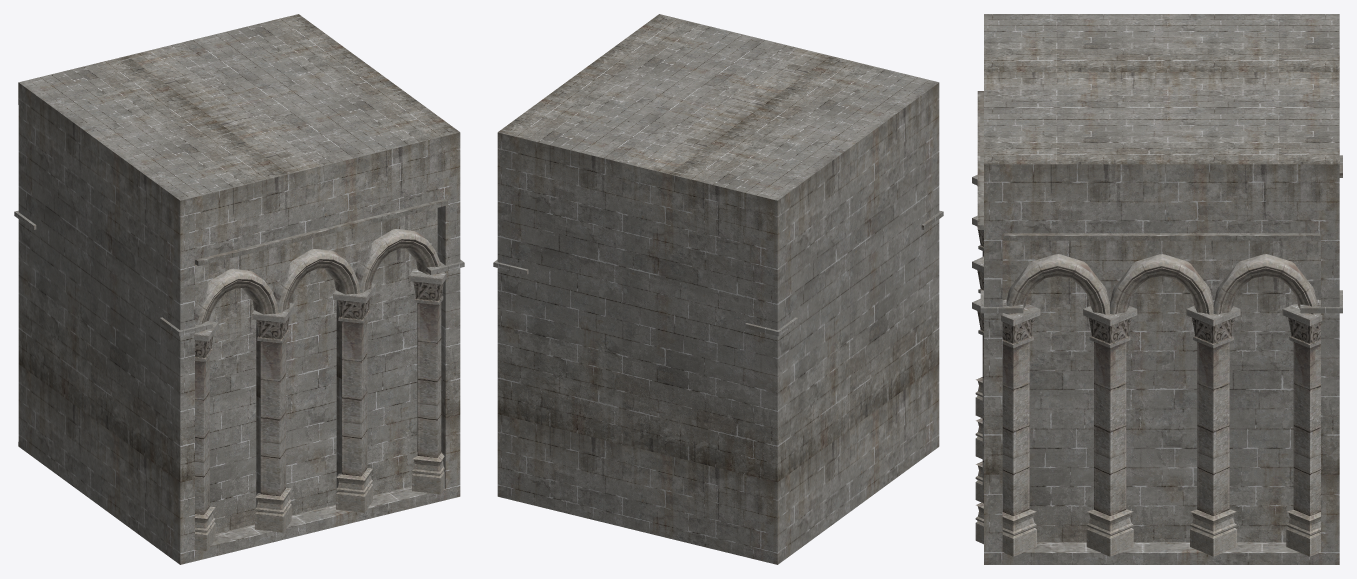
Rendered from bg_lut_lucastle_churchtower06_sm_ksh.FBX.
3 views of the same model, side by side, from view 1: azimuth 30°, elevation 25°; view 2: azimuth 150°, elevation 25°; view 3: azimuth 270°, elevation 25° (orthographic). The views are drawn at different scales.
Parts seen in each view (by area): view 1: bg_lut_lucastle_churchtower06_sm_ksh; view 2: bg_lut_lucastle_churchtower06_sm_ksh; view 3: bg_lut_lucastle_churchtower06_sm_ksh.
Part boxes in pixels (x1,y1,x2,y2): bg_lut_lucastle_churchtower06_sm_ksh: [14, 14, 464, 564]; bg_lut_lucastle_churchtower06_sm_ksh: [493, 14, 943, 564]; bg_lut_lucastle_churchtower06_sm_ksh: [972, 14, 1342, 564].
Bounding box in the file's own units: 359 × 427 × 359.
